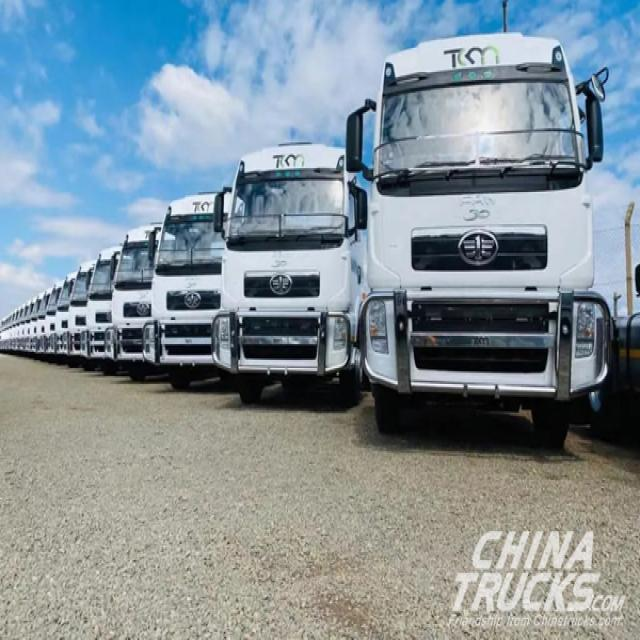Heavy Duty Truck: (348, 35, 607, 448), (213, 128, 367, 408), (146, 189, 231, 392), (109, 219, 158, 387), (88, 237, 116, 374)
